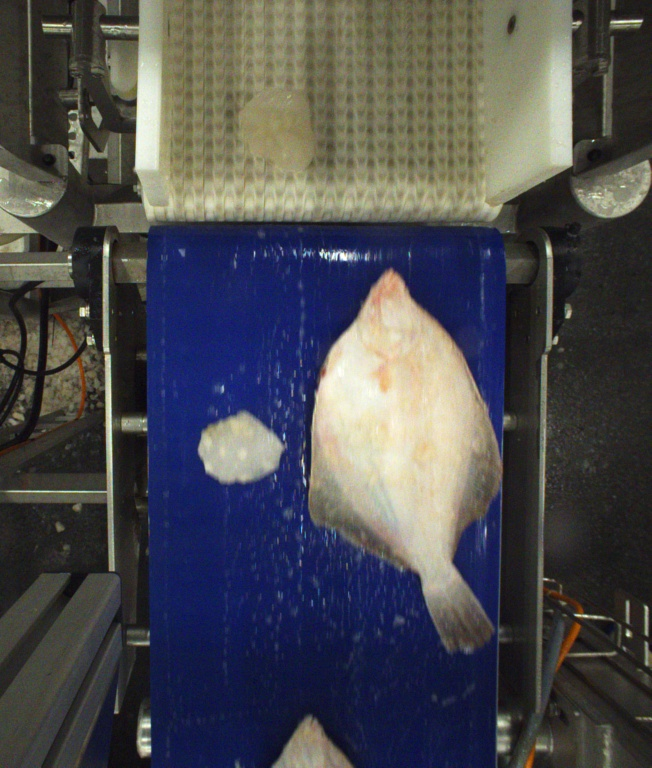PLE: (309, 269, 501, 655)
